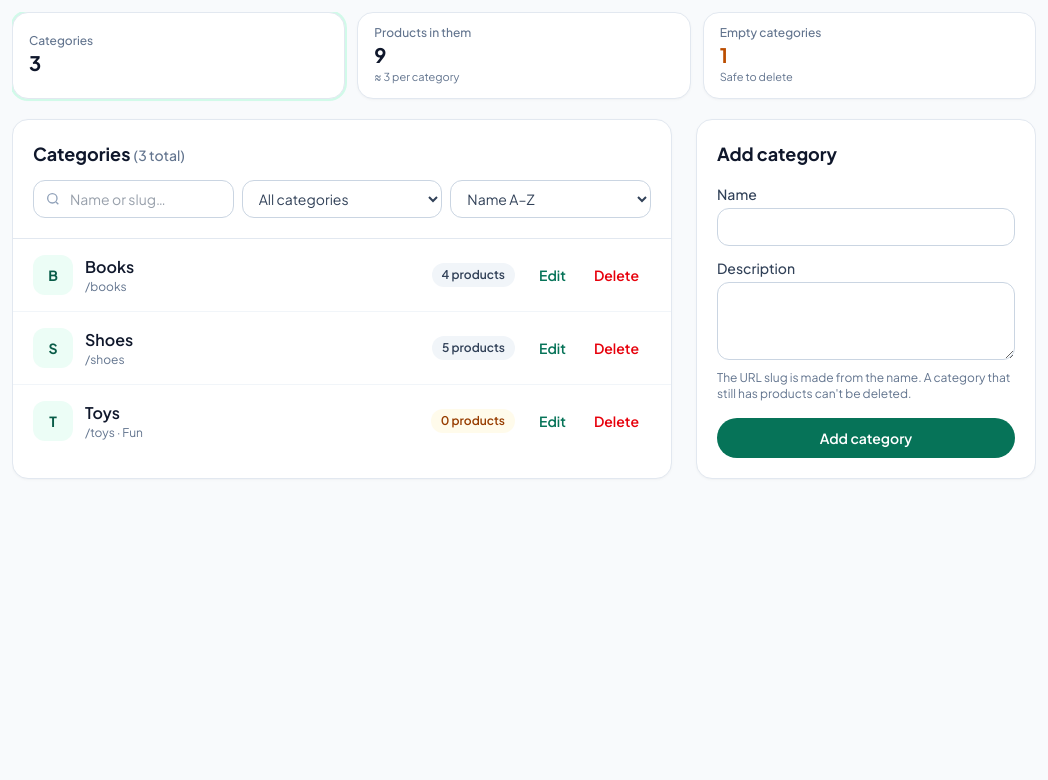
Test: AdminCategoriesPage › create, edit, and the protected delete message
Click the button "Add category": (866, 438) [717,418,1015,458]
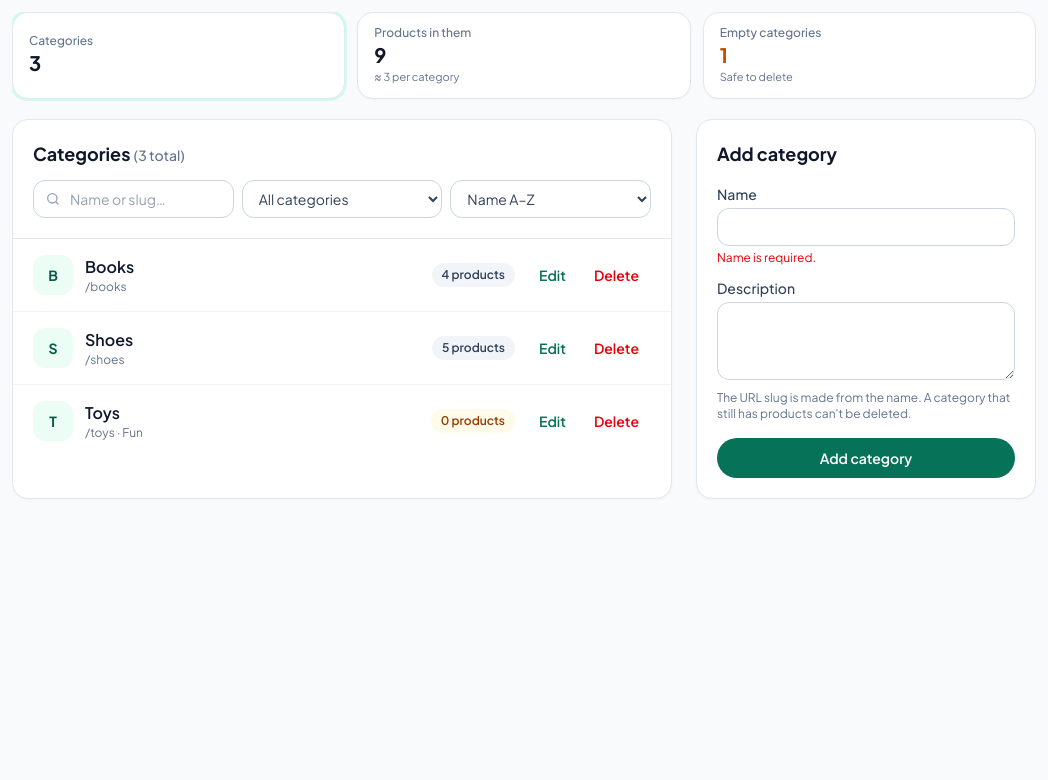
Expected: the text "Name is required." is shown, [717,250,816,264]
In the field labelled "Name": (866, 226) [717,208,1015,246], type "Garden"
Click the button "Add category": (866, 458) [717,438,1015,478]
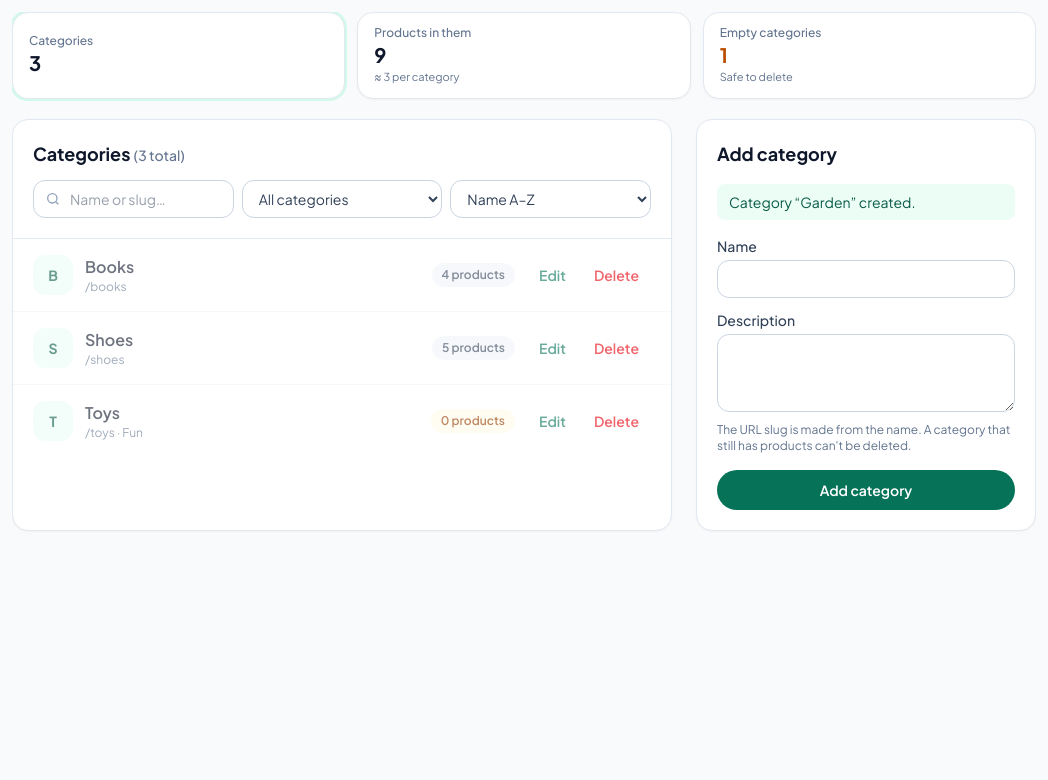
Expected: the text "Category “Garden” created." is shown, [717,184,1015,220]
Click the button with aria-label "Edit Books": (552, 274) [527,260,578,288]
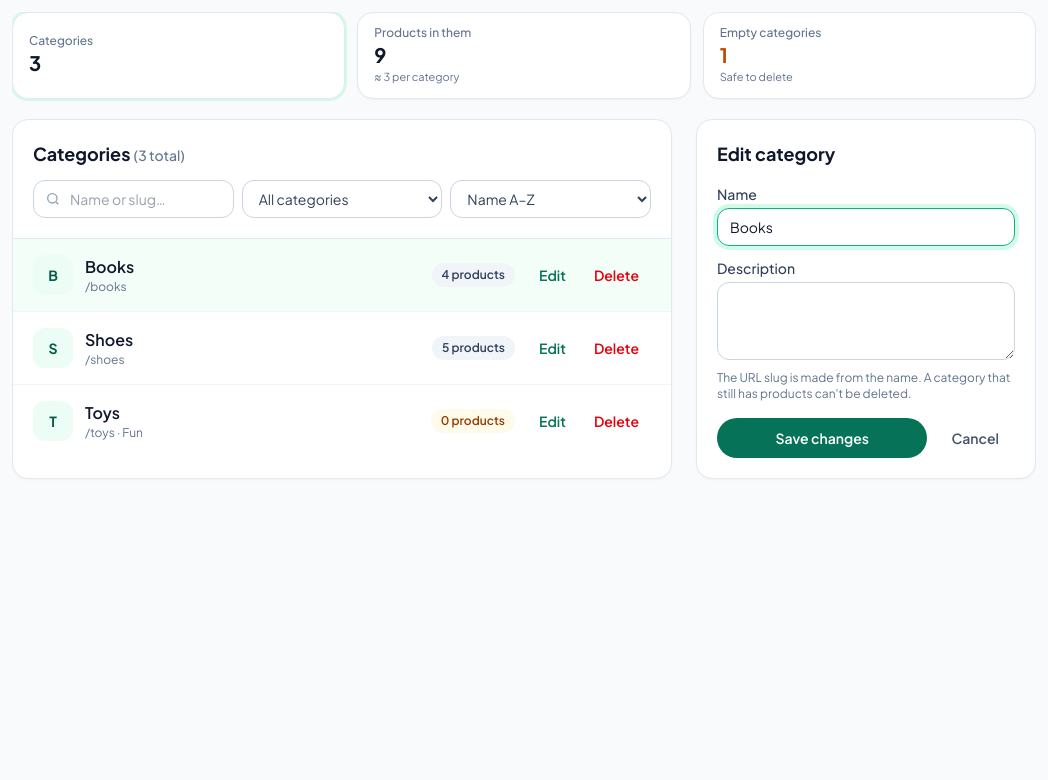
Expected: the field labelled "Name" holds "Books"
Replace the text in the field labelled "Name" with "Novels": (866, 226) [717,208,1015,246]
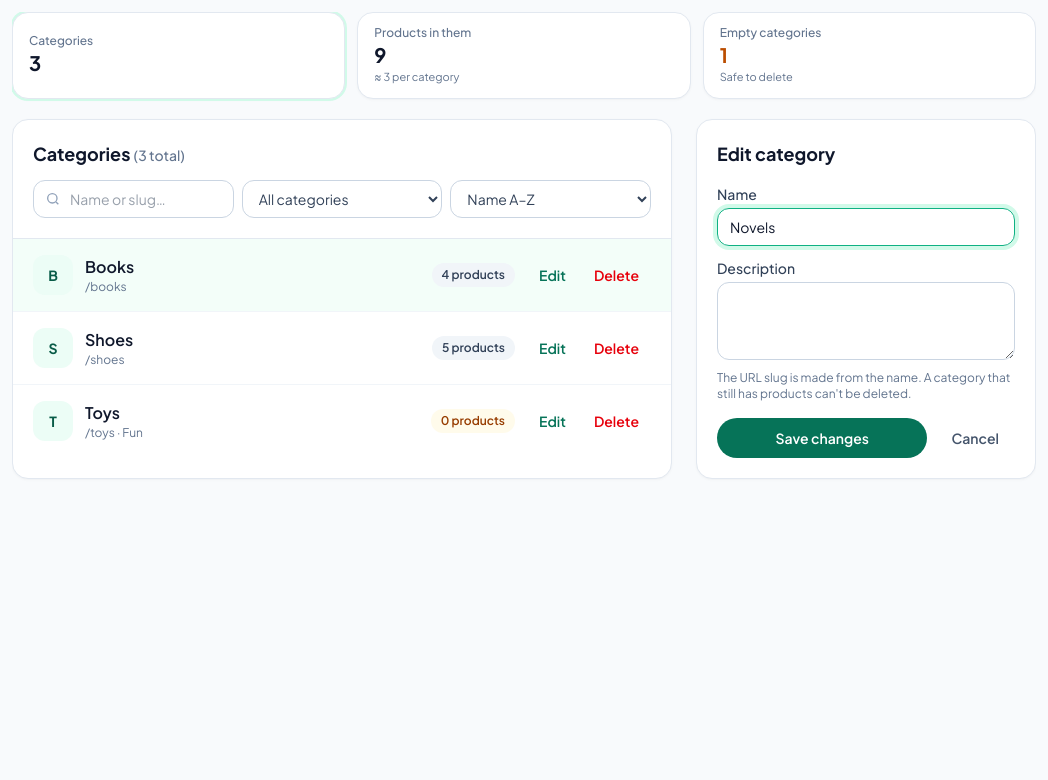
Click the button "Save changes": (822, 438) [717,418,928,458]
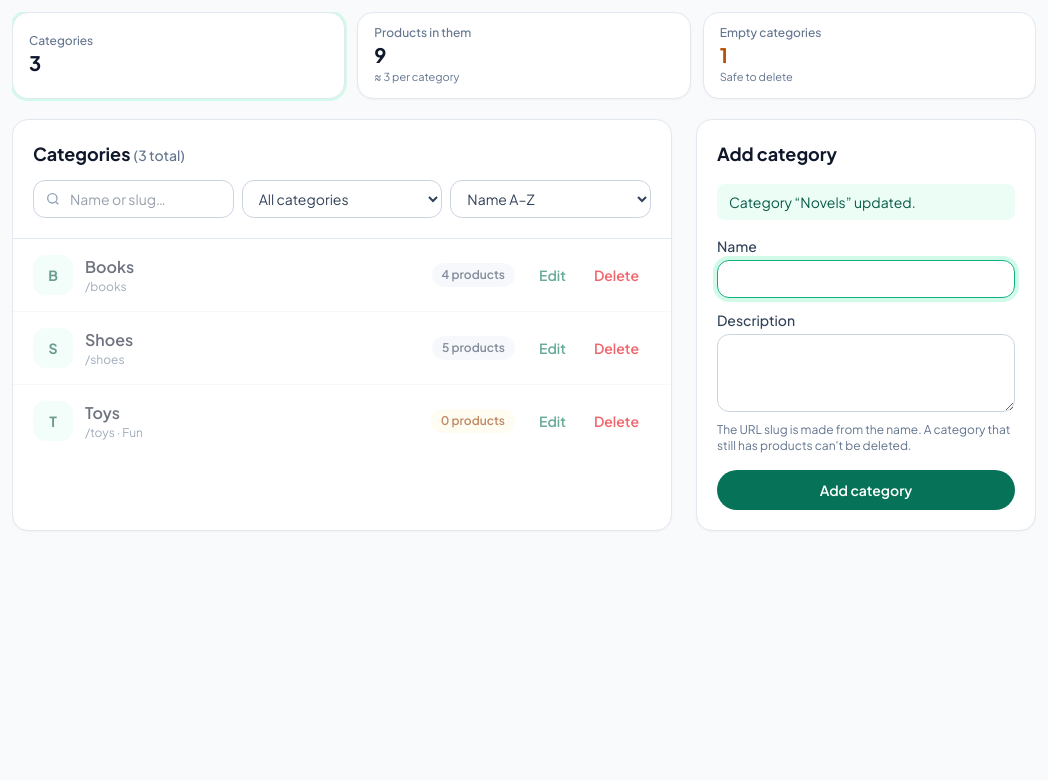
Click the button with aria-label "Delete Books": (616, 274) [582,260,651,288]
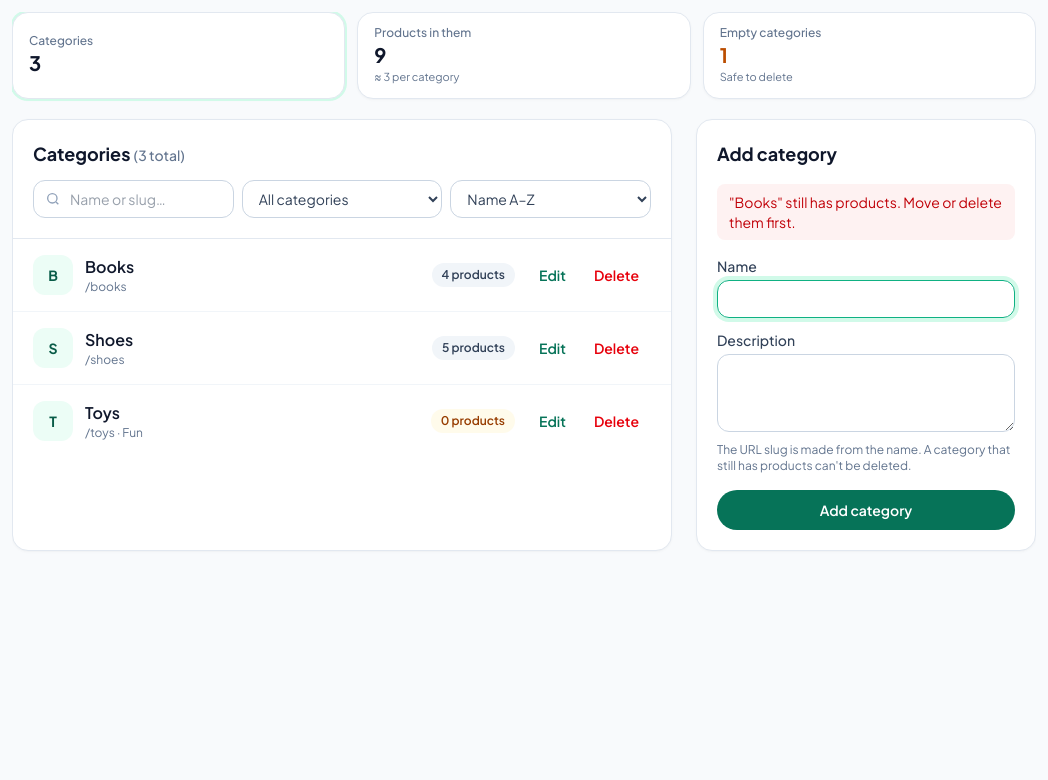
Expected: the text "\"Books\" still has products. Move or delete them first." is shown, [717,184,1015,240]
